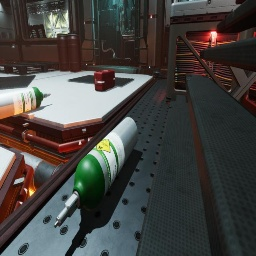0: (54, 117, 138, 228), (0, 87, 51, 119)
FireExtinguisher ]: (12, 62, 18, 63)
FirstAidBox ,: (94, 69, 115, 91)
NitrogenTank ,: (0, 58, 6, 63)
